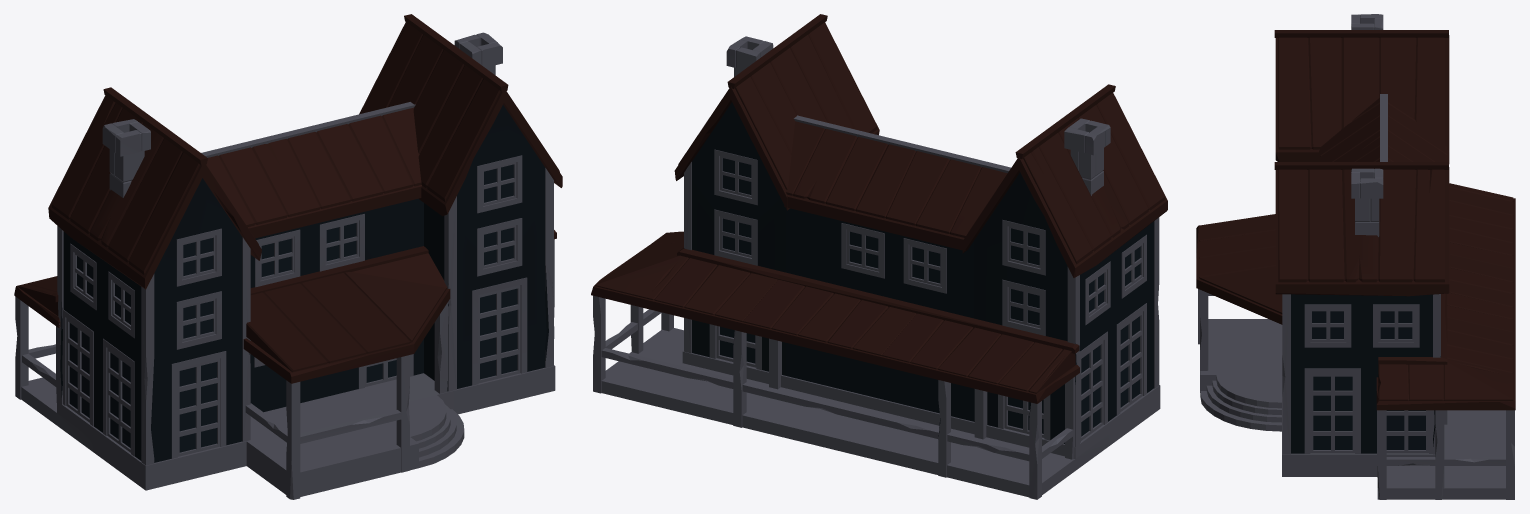
File: House_7.fbx
3 views of the same model, side by side, from view 1: azimuth 30°, elevation 25°; view 2: azimuth 150°, elevation 25°; view 3: azimuth 270°, elevation 25° (orthographic). The views are drawn at different scales.
Parts seen in each view (by area): view 1: House_7; view 2: House_7; view 3: House_7.
Part boxes in pixels (x1,y1,x2,y2): House_7: [14, 14, 562, 499]; House_7: [591, 14, 1167, 499]; House_7: [1196, 14, 1515, 499].
Size of the model in its own units: 451 by 296 by 296.
